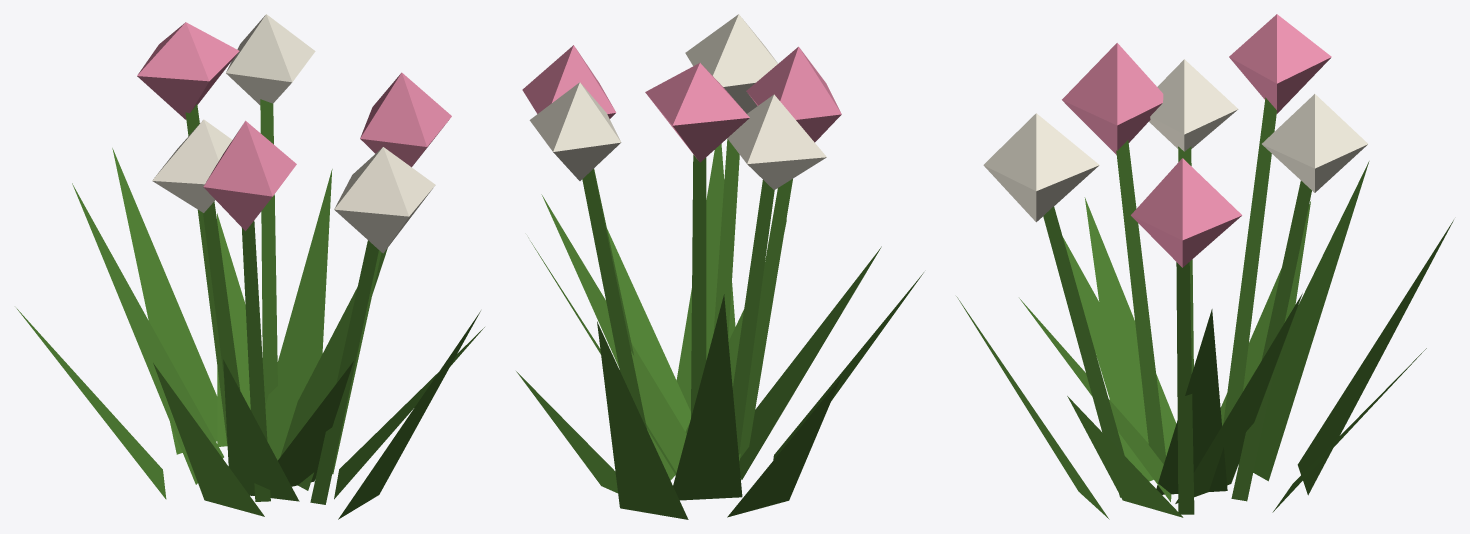
File: flower_tuft.glb
The picture shows the model from 3 angles, left to right: view 1: azimuth 30°, elevation 25°; view 2: azimuth 150°, elevation 25°; view 3: azimuth 270°, elevation 25°; orthographic projection. The views are drawn at different scales.
Visible parts, largest first — view 1: flower_tuft2; view 2: flower_tuft2; view 3: flower_tuft2.
Boxes of the visible parts, x1,y1,x2,y2 form: flower_tuft2: [16, 14, 484, 519]; flower_tuft2: [516, 14, 923, 519]; flower_tuft2: [956, 14, 1453, 519].
Bounding box in the file's own units: 0.9336 × 1.05 × 1.06.
